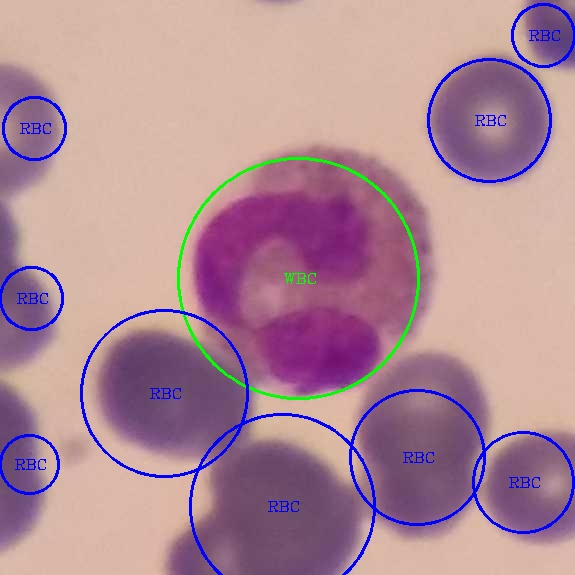RBC: (85, 326, 268, 471), (419, 47, 566, 194), (204, 435, 359, 564), (354, 345, 498, 475), (479, 423, 573, 553), (356, 443, 479, 540), (1, 55, 71, 217), (0, 237, 65, 380)
WBC: (180, 143, 439, 398)
